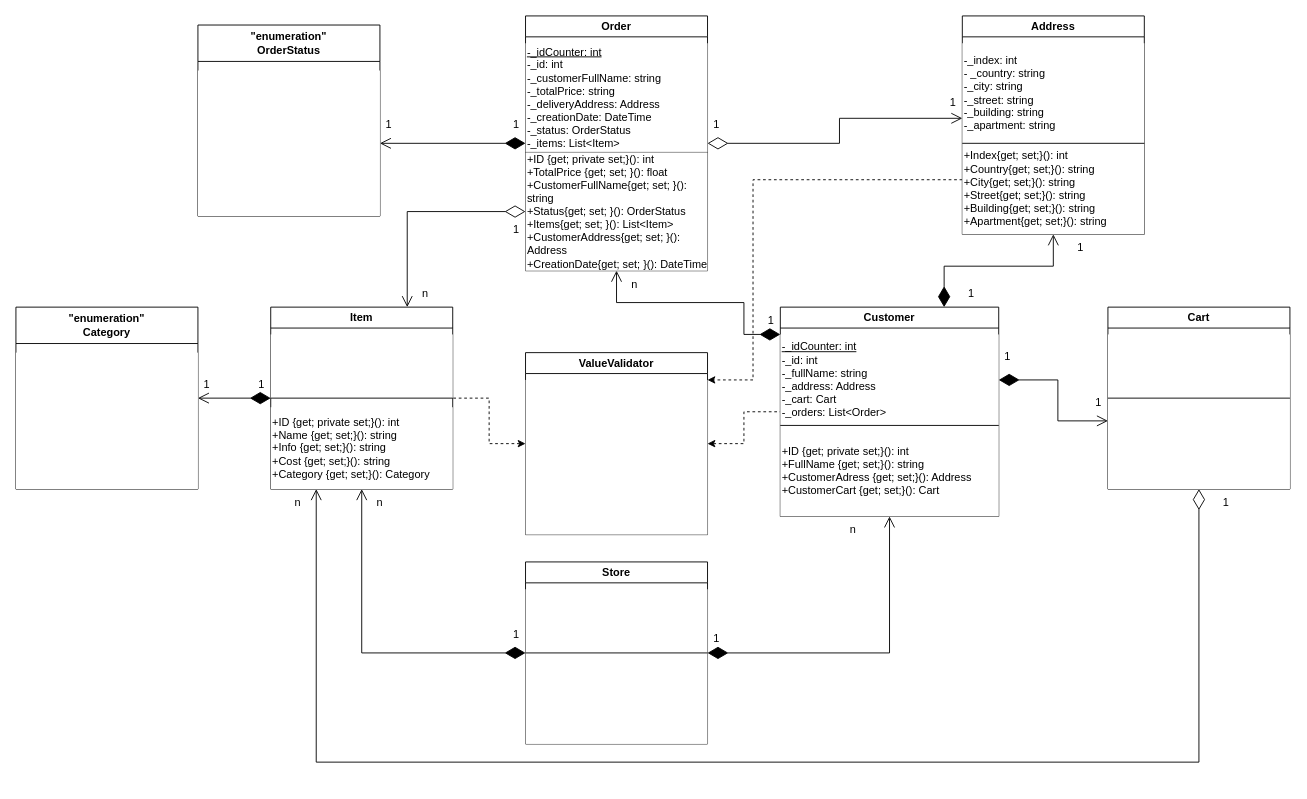
The diagram is 1307 pixels wide and 799 high, and some of its shapes have lost their labels. The centre of each missing label's shape, as x and y in pixels:
+ Items{ get; set; }(): List<Item> + Amount{ get; }(): float: the point at 1198,443
+ Items{ get; set; }(): List<Item> + Customers{ get; set; }(): List<Customer >: the point at 616,697
+AssertStringOnLength(string, int, string): void: the point at 616,456
-_idCounter: int -_id: int -_name: string -_info: string -_cost: int: the point at 361,366
-_items: List<Item>: the point at 1198,366
-_items: List<Item> -_customers: List<Customer>: the point at 616,620
Food, Clothes, Boots, Toys, Electronics, Accessories, Books: the point at 106,420
New, Proccessing, Assembly, Sent, Delivered, Returned, Abandoned: the point at 288,143
